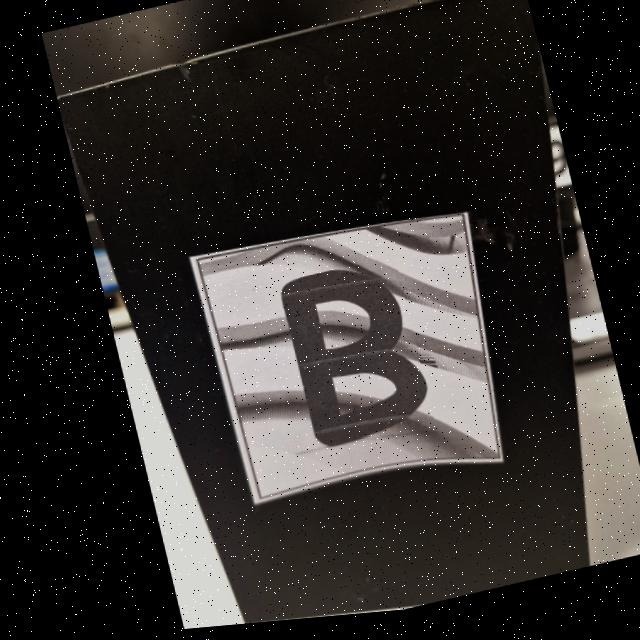B: (275, 277, 418, 451)
